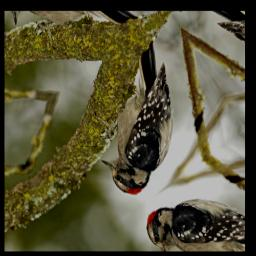Woodpecker: (62, 31, 223, 204)
